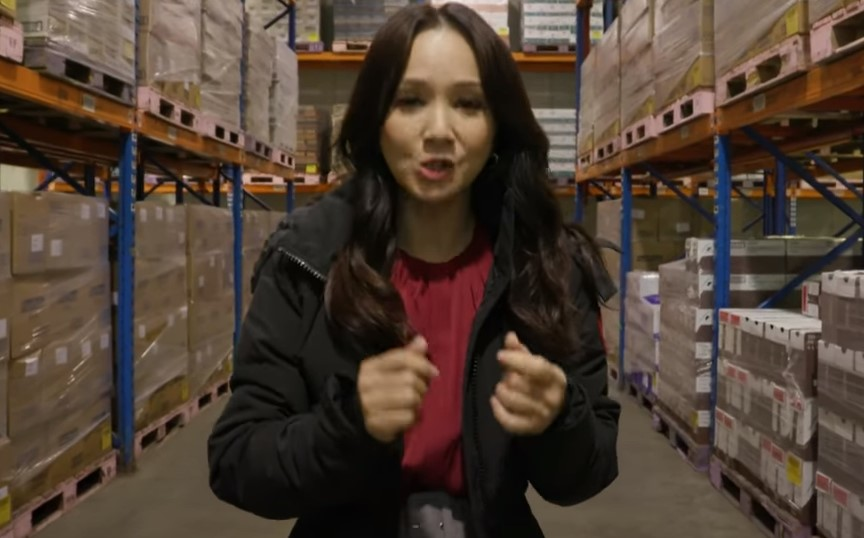face_no_mask: (373, 17, 505, 211)
